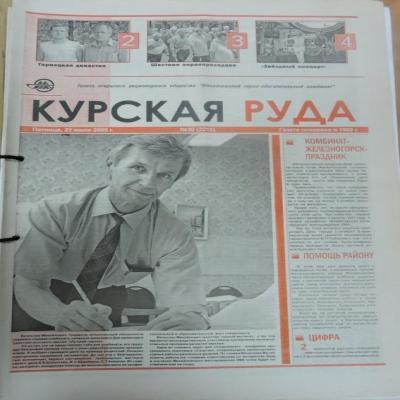printed_products: (4, 0, 400, 394)
